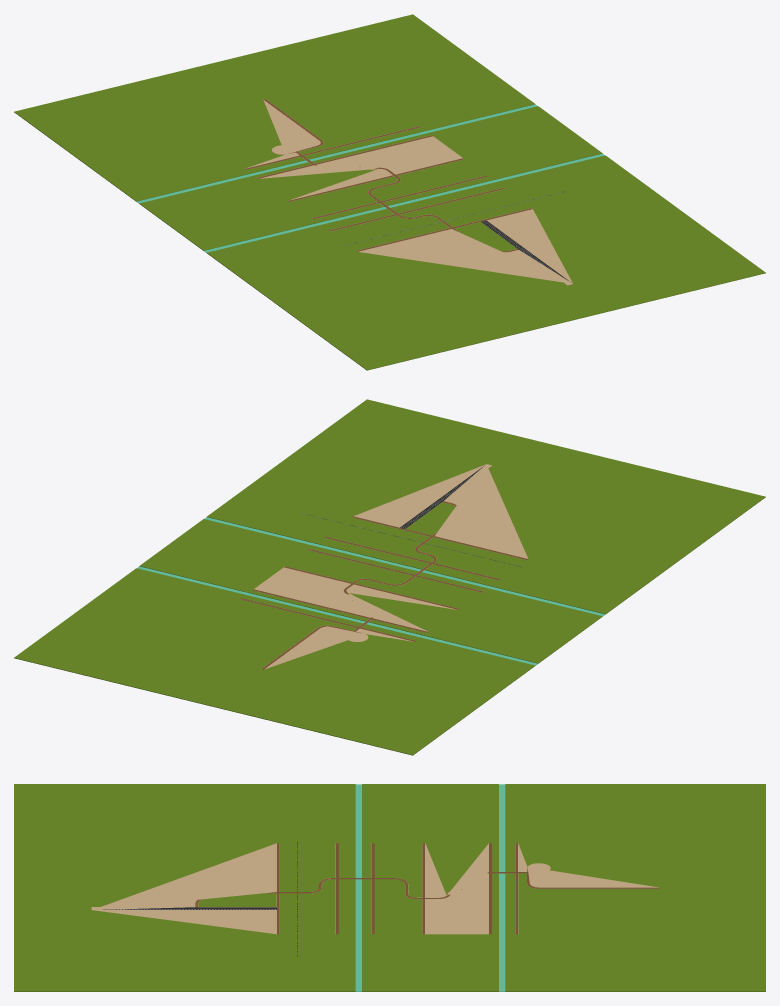
Rendered from yol_yeni_bos.fbx.
The picture shows the model from 3 angles, top to bottom: view 1: azimuth 30°, elevation 25°; view 2: azimuth 150°, elevation 25°; view 3: azimuth 270°, elevation 25°; orthographic projection. The views are drawn at different scales.
Parts seen in each view (by area): view 1: 29.06; view 2: 29.06; view 3: 29.06.
Part boxes in pixels (<box>): 29.06: <box>14,14,765,370</box>; 29.06: <box>14,399,765,755</box>; 29.06: <box>14,784,765,991</box>.
Bounding box in the file's own units: 47040 × 73.07 × 72093.
Materials: 10 (10 with a texture image).
